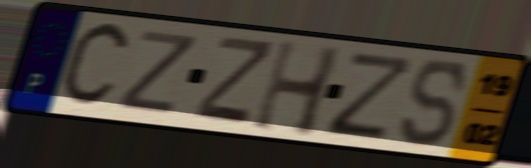C: (55, 18, 135, 113)
H: (248, 36, 347, 140)
S: (397, 57, 471, 149)
Z: (322, 48, 419, 143), (191, 33, 279, 129), (113, 27, 203, 117)
